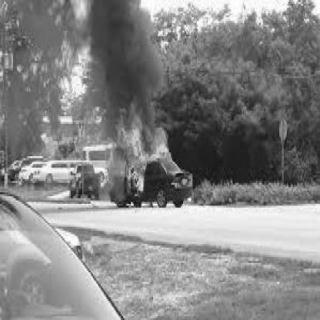Smoke: (30, 3, 61, 51)
